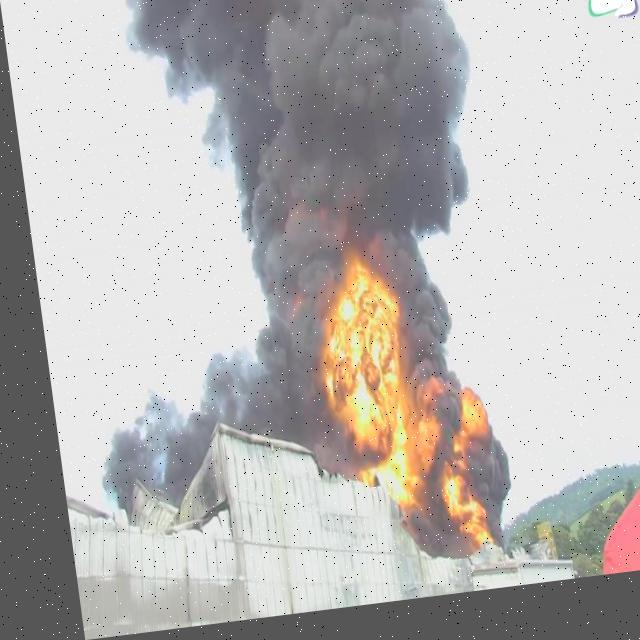Fire: (306, 268, 410, 522), (414, 382, 490, 568)
